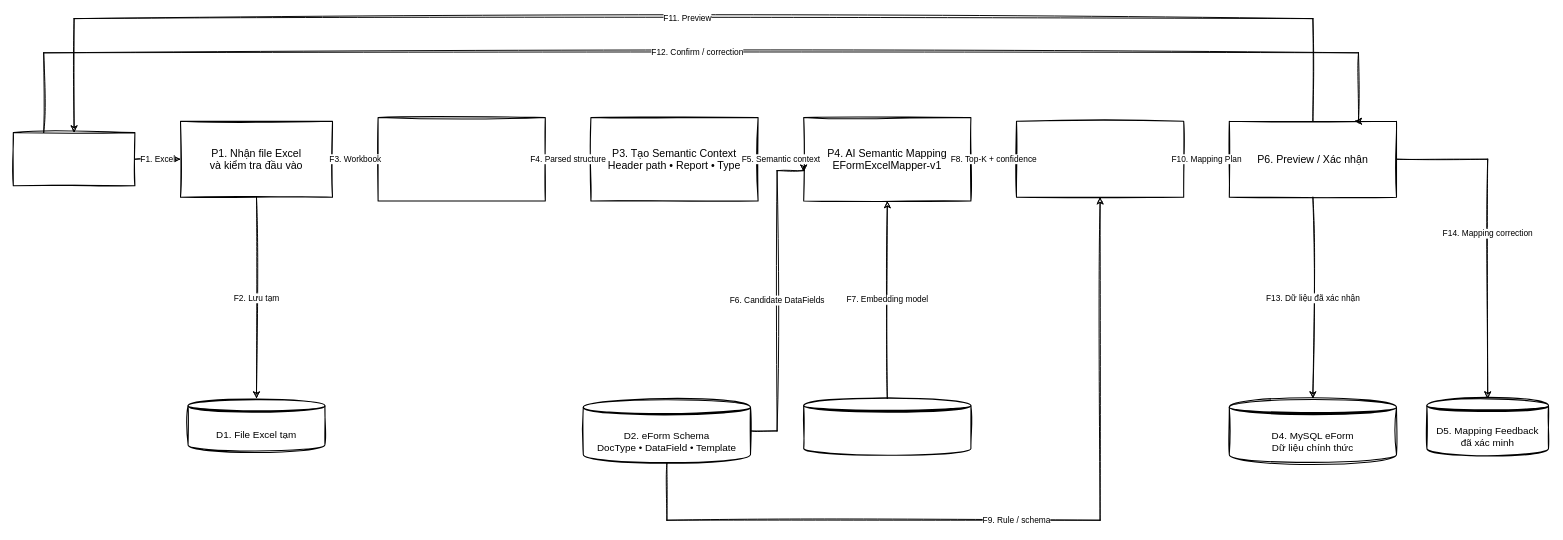
This 1563x540 diagram has some shape labels left out. The centre of each missing label's shape, as x and y in pixels:
D3. Model Local BGE-M3 fine-tuned: (x=887, y=427)
E1. Người dùng: (x=73, y=159)
P2. Phân tích cấu trúc Sheet • Merge • Header • Code: (x=461, y=159)
P5. Validate + Build Mapping Plan: (x=1100, y=158)
